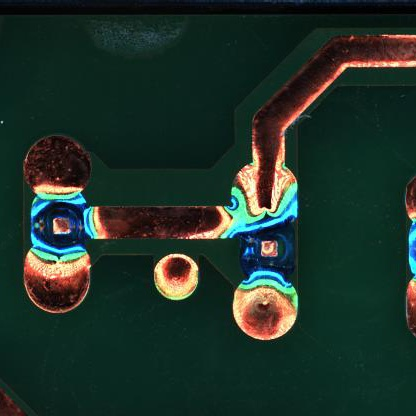spot: (29, 193, 89, 257), (239, 222, 295, 284)
